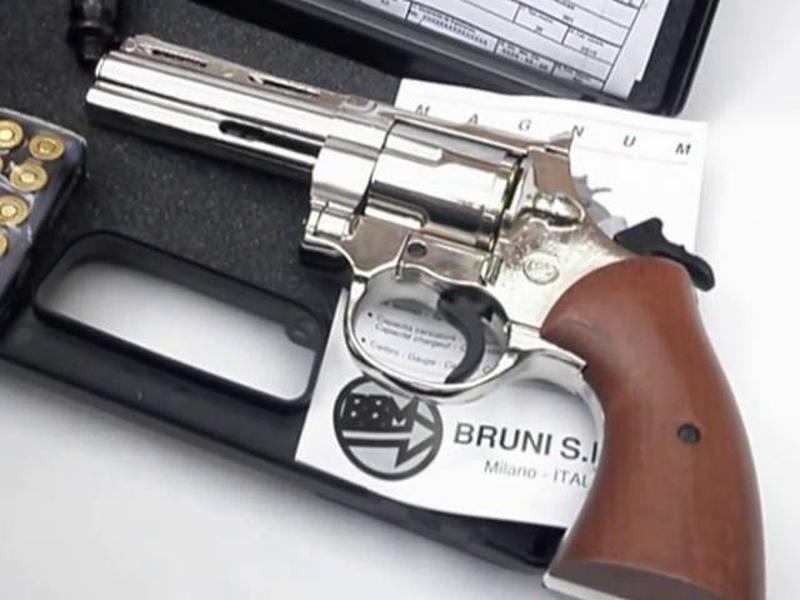Revolver: (58, 33, 780, 456)
